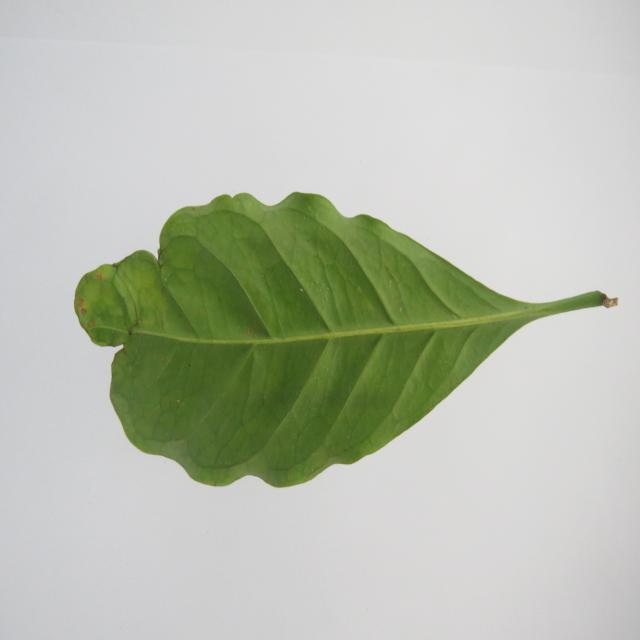DeficienciaNutricional-Calcio: (75, 193, 611, 487)
